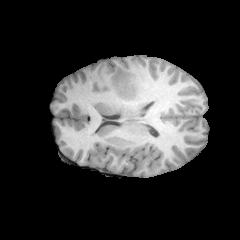glioma: (107, 66, 139, 100)
